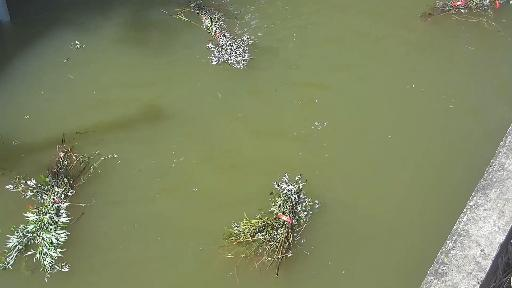twig: (0, 146, 118, 279), (224, 168, 336, 273), (171, 0, 260, 73), (437, 0, 512, 21)
